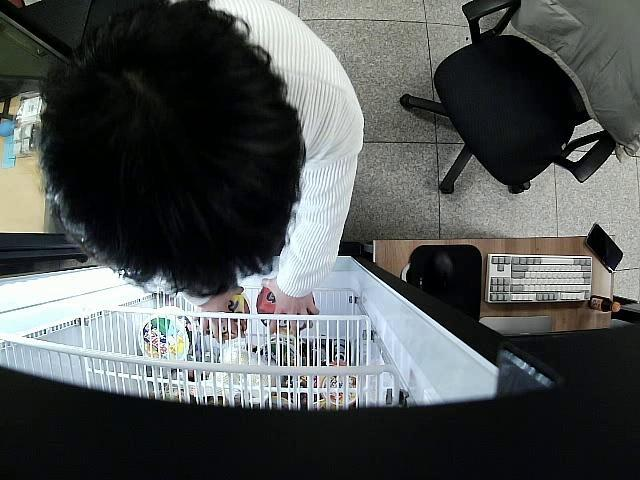05_nuguri_L: (259, 288, 314, 334), (208, 295, 248, 342)
